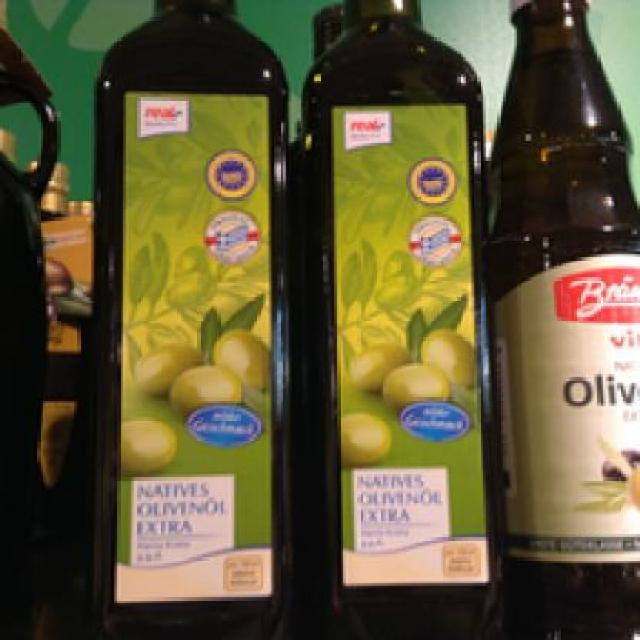Oil: (86, 2, 292, 638), (293, 0, 498, 635), (477, 0, 637, 629)
